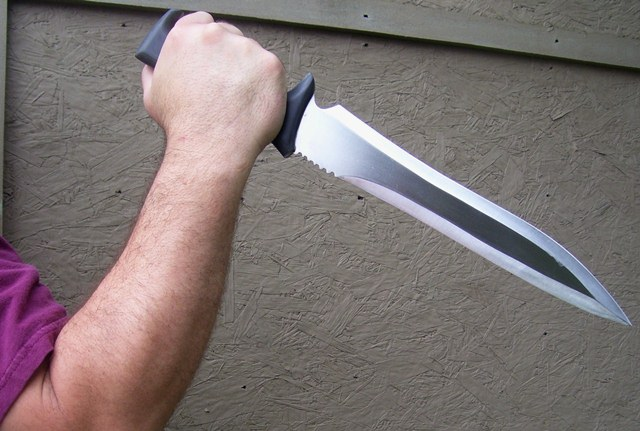knife: (131, 5, 638, 336)
